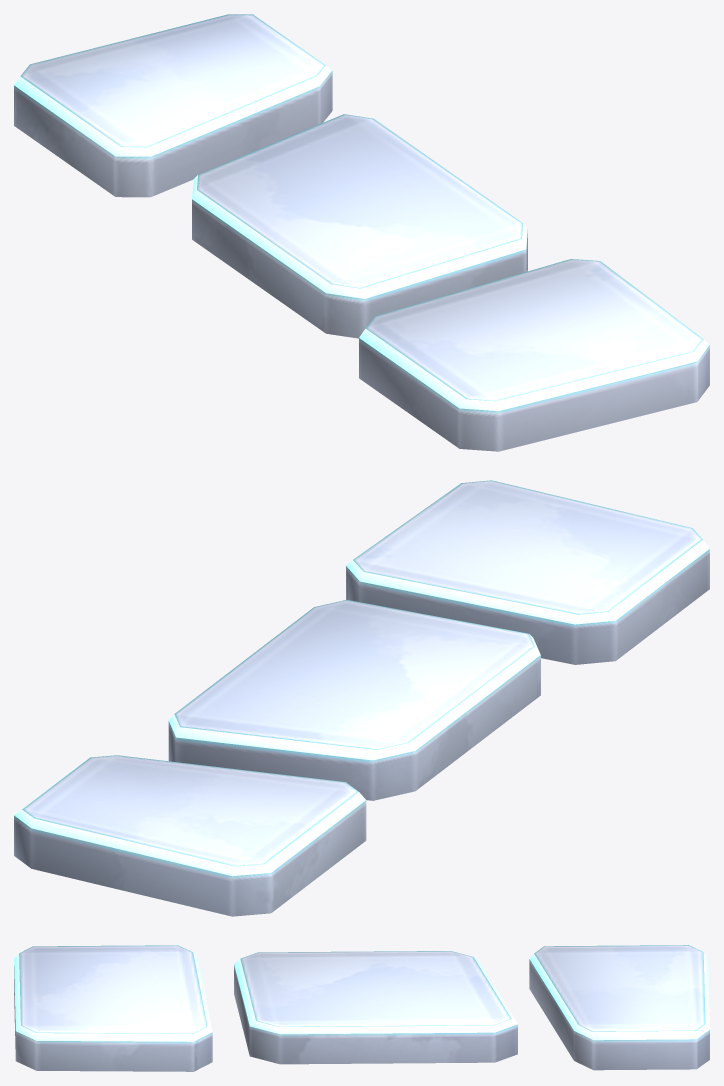
File: obj_tile03.gltf
3 renders of one model, top to bottom at view 1: azimuth 30°, elevation 25°; view 2: azimuth 150°, elevation 25°; view 3: azimuth 270°, elevation 25°, orthographic. The views are drawn at different scales.
Visible parts, largest first — view 1: obj_tile03; view 2: obj_tile03; view 3: obj_tile03.
Part boxes in pixels (x1,y1,x2,y2): obj_tile03: [14, 14, 709, 451]; obj_tile03: [14, 480, 709, 916]; obj_tile03: [14, 945, 709, 1071].
Size of what is drawn, in the model's own units: 0.4702 by 0.0836 by 1.48.
2 materials, 1 textured.
